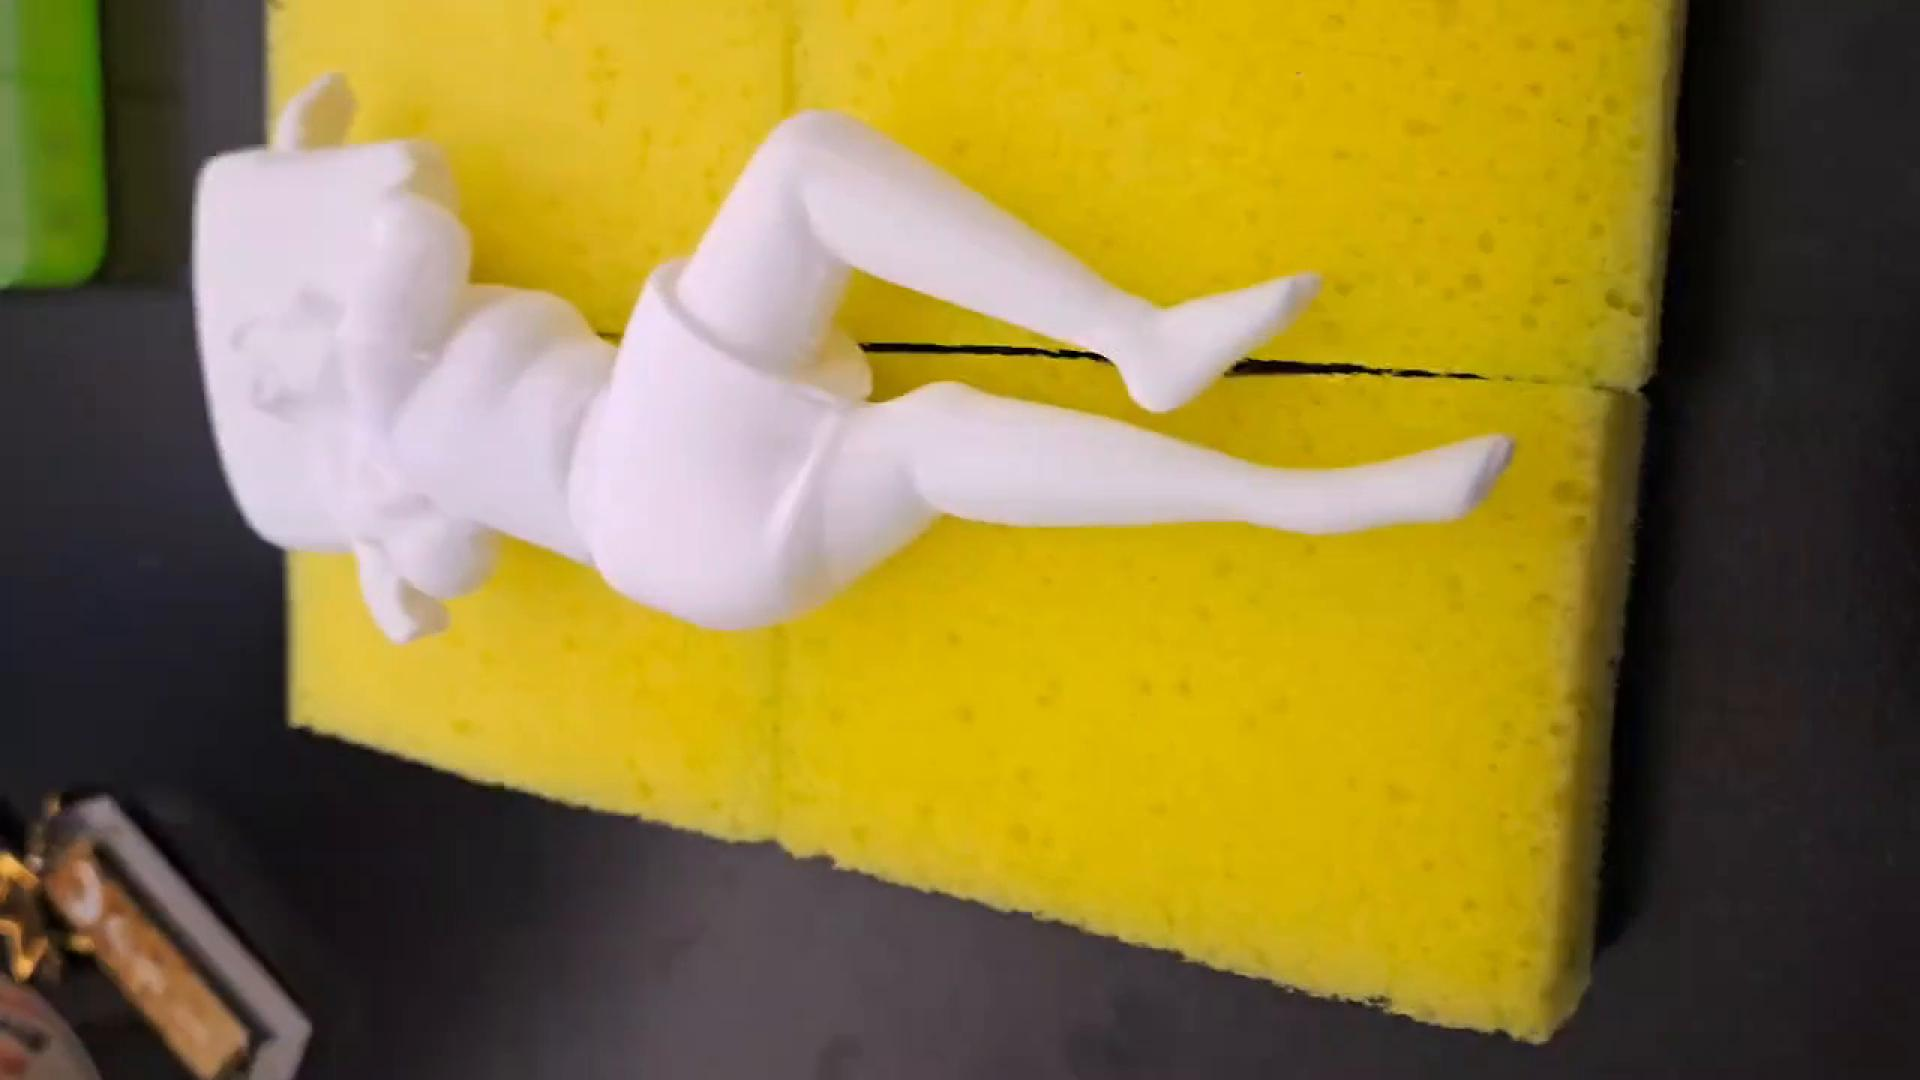Good-style: (183, 65, 1520, 650)
